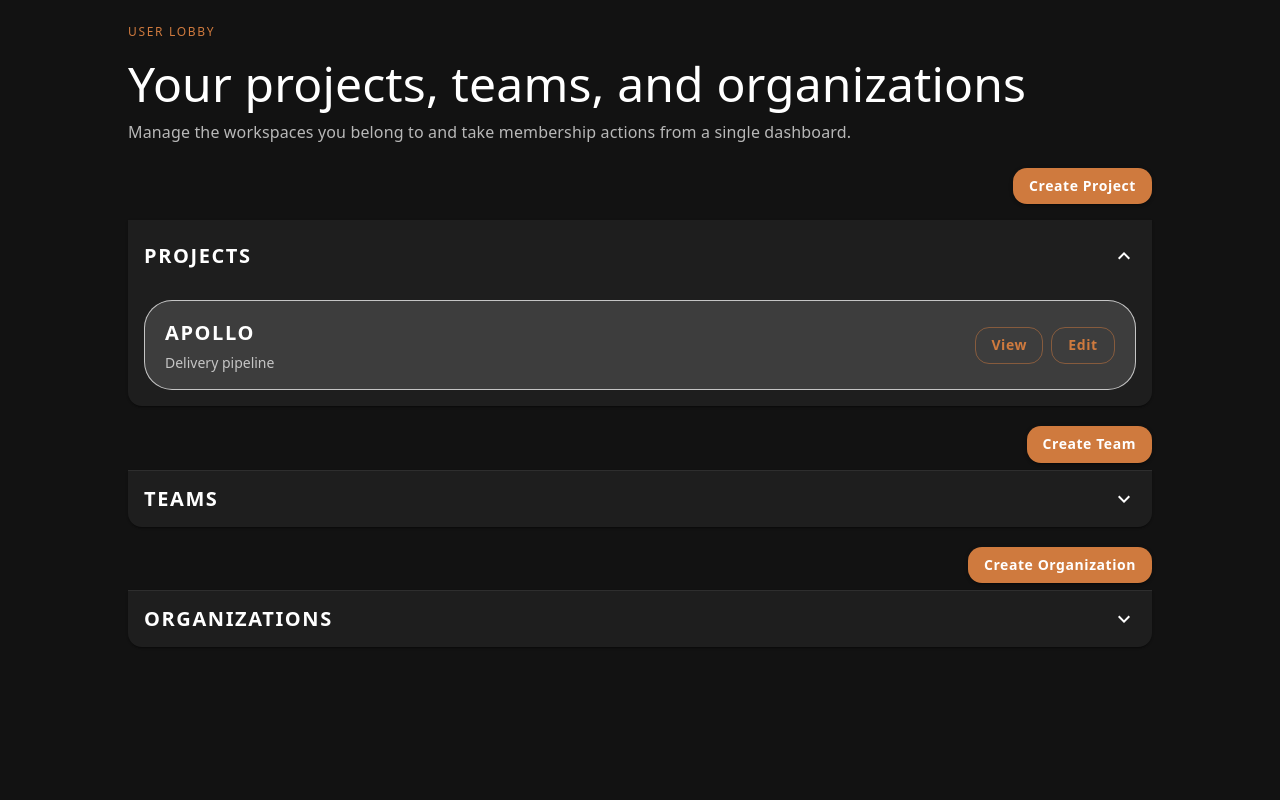
UserLobbyPage › opens the edit modal from the reusable edit button and updates the project row
Expected: the heading "Apollo" is shown, [165,319,255,346]
Click the button "Edit" at (1083, 345), box [1051,327,1115,364]
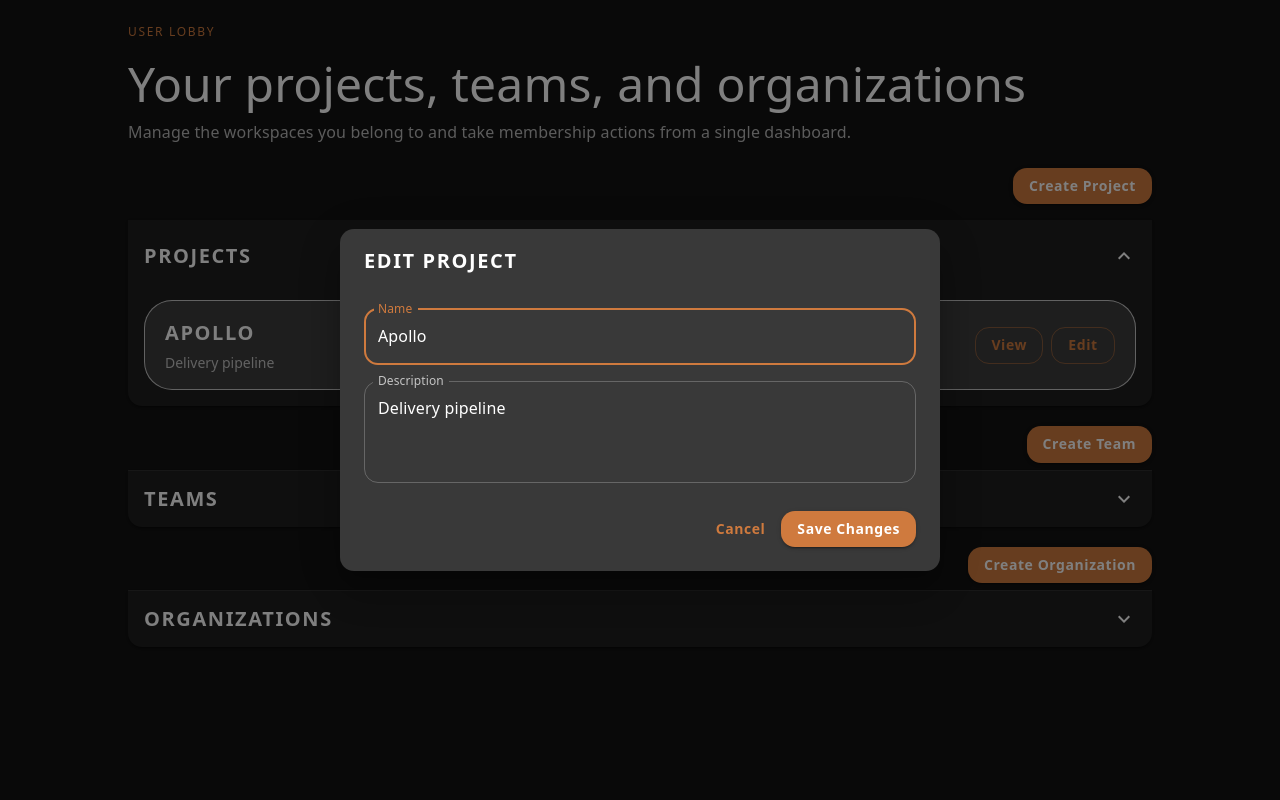
Expected: the field labelled "Name" holds "Apollo"
Replace the text in the field labelled "Name" with "Apollo Prime" at (640, 337), box [364,309,916,365]
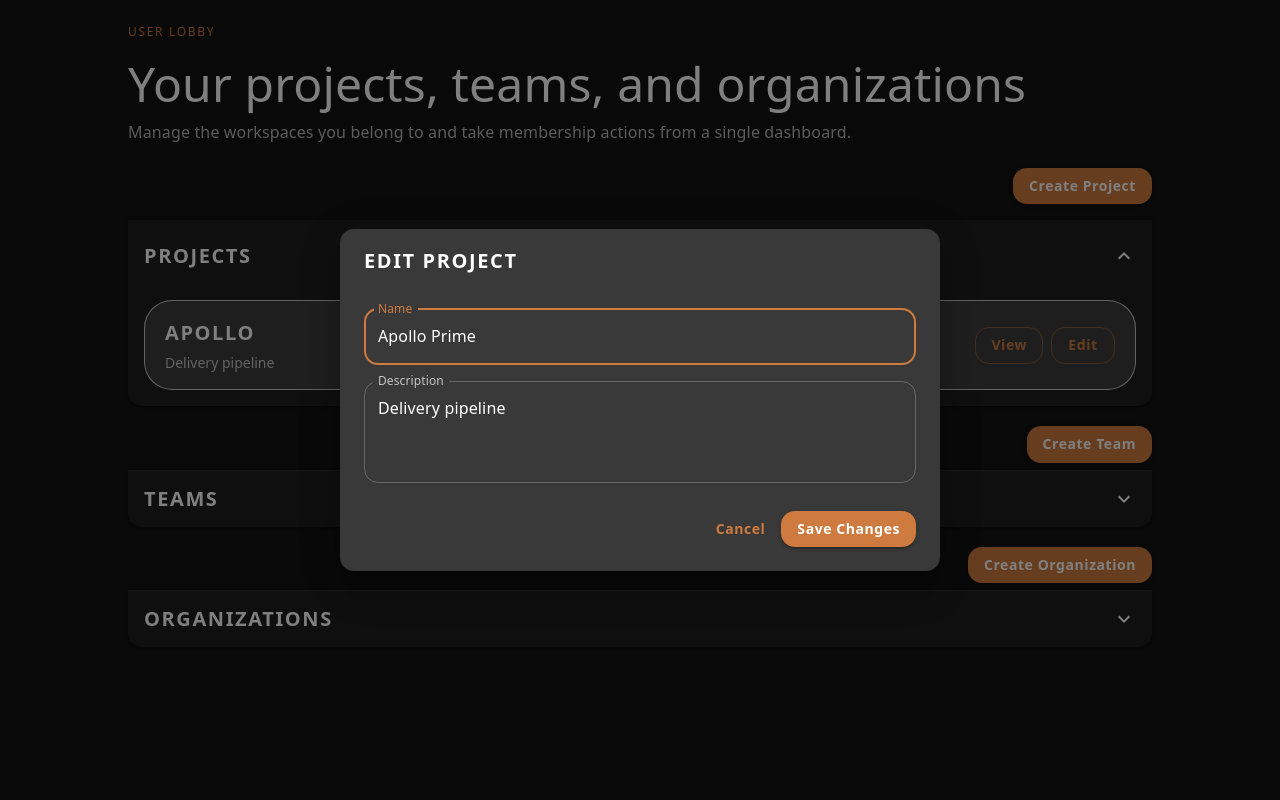
Replace the text in the text box labelled "Description" with "Updated description" at (640, 432), box [378,397,902,466]
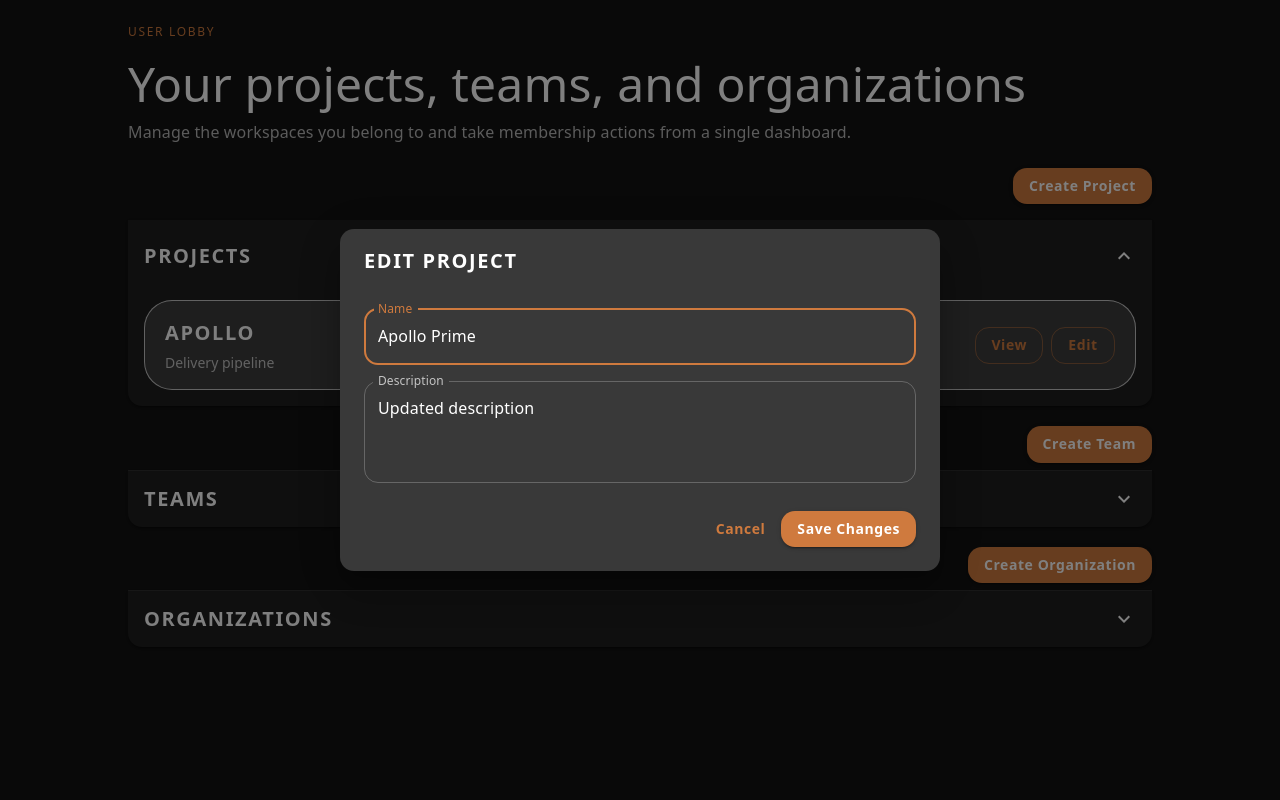
Press Enter
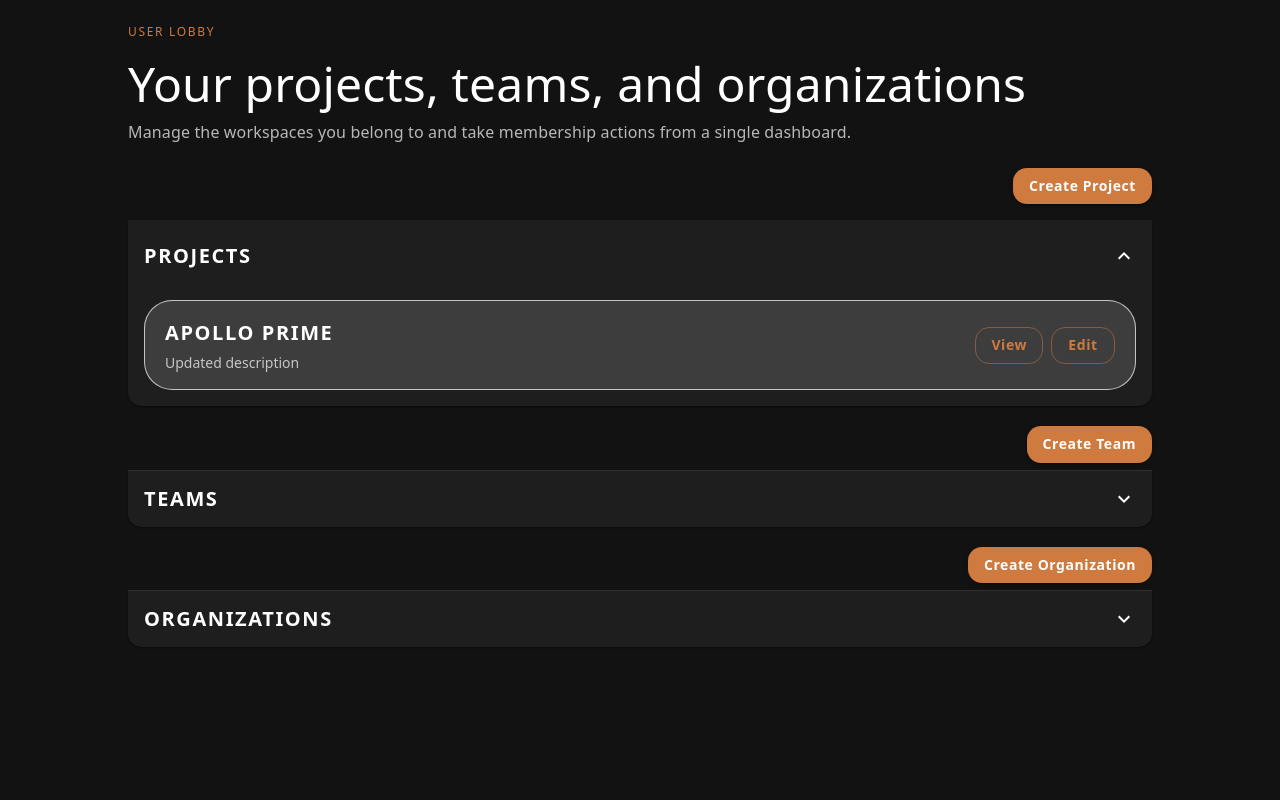
Expected: the heading "Apollo Prime" is shown, [165,319,333,346]
